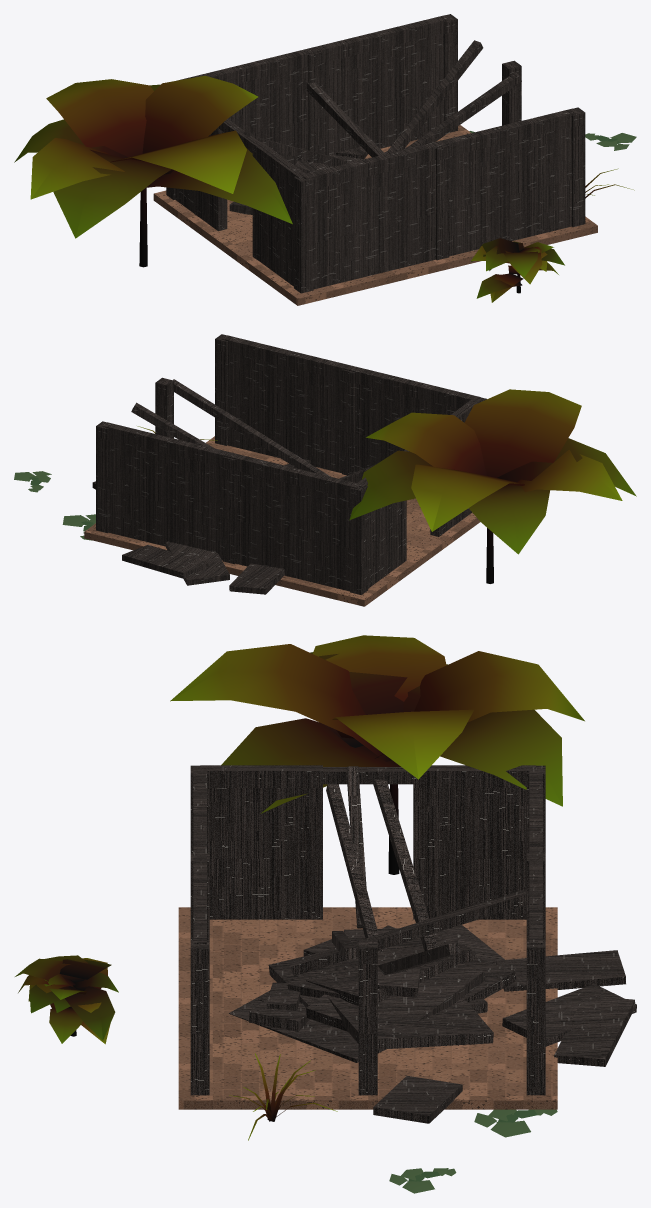
Rendered from nha_tranh_03.glb.
3 renders of one model, top to bottom at view 1: azimuth 30°, elevation 25°; view 2: azimuth 150°, elevation 25°; view 3: azimuth 270°, elevation 25°, orthographic. The views are drawn at different scales.
Visible parts, largest first — view 1: nha_tranh_03, nha_tranh_03_veg_01_banana_b, nha_tranh_03_veg_00_bush_a, nha_tranh_03_veg_04_moss_a; view 2: nha_tranh_03, nha_tranh_03_veg_01_banana_b, nha_tranh_03_veg_04_moss_a, nha_tranh_03_veg_02_moss_a; view 3: nha_tranh_03, nha_tranh_03_veg_01_banana_b, nha_tranh_03_veg_00_bush_a, nha_tranh_03_veg_02_moss_a, nha_tranh_03_veg_03_grass_tuft_c, nha_tranh_03_veg_04_moss_a.
Boxes of the visible parts, x1=… form: nha_tranh_03: x1=153, y1=14, x2=597, y2=305; nha_tranh_03_veg_01_banana_b: x1=14, y1=75, x2=292, y2=267; nha_tranh_03_veg_00_bush_a: x1=471, y1=238, x2=564, y2=302; nha_tranh_03_veg_04_moss_a: x1=585, y1=133, x2=636, y2=150; nha_tranh_03: x1=84, y1=334, x2=486, y2=606; nha_tranh_03_veg_01_banana_b: x1=349, y1=389, x2=636, y2=583; nha_tranh_03_veg_04_moss_a: x1=14, y1=471, x2=51, y2=492; nha_tranh_03_veg_02_moss_a: x1=62, y1=514, x2=95, y2=540; nha_tranh_03: x1=178, y1=765, x2=636, y2=1123; nha_tranh_03_veg_01_banana_b: x1=170, y1=635, x2=584, y2=874; nha_tranh_03_veg_00_bush_a: x1=15, y1=955, x2=118, y2=1044; nha_tranh_03_veg_02_moss_a: x1=474, y1=1109, x2=557, y2=1137; nha_tranh_03_veg_03_grass_tuft_c: x1=229, y1=1053, x2=337, y2=1140; nha_tranh_03_veg_04_moss_a: x1=389, y1=1168, x2=456, y2=1193.
Size of the model in its own units: 11.08 by 2.6 by 7.22.
Materials: 6 (6 with a texture image).
